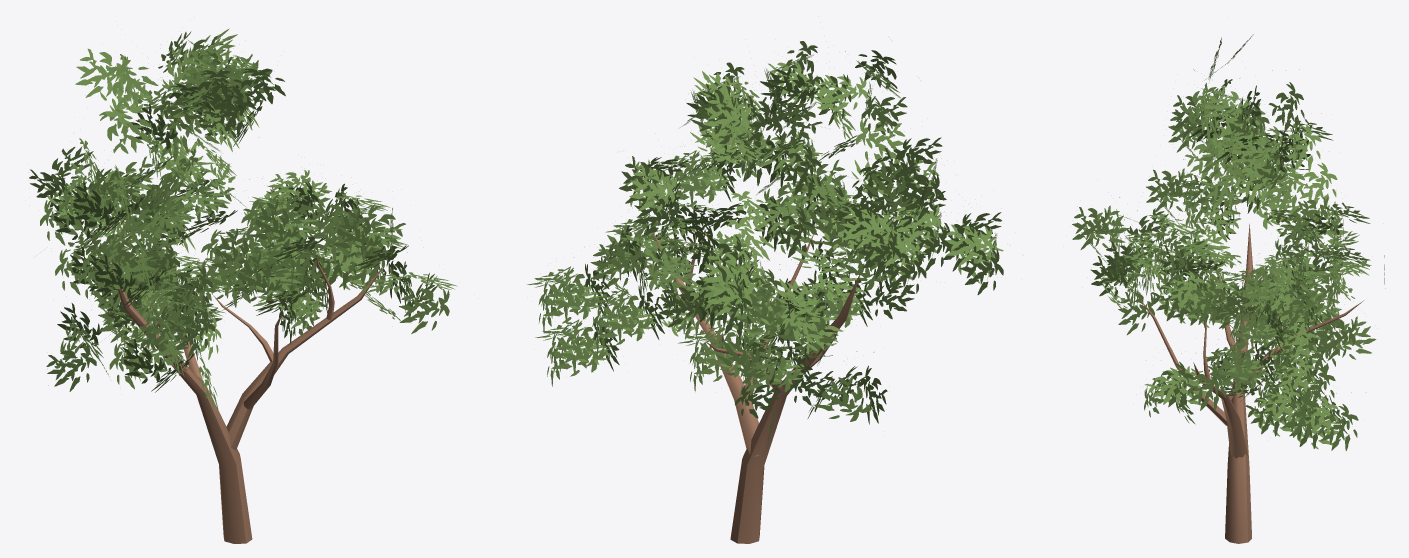
File: tree3-transformed.glb
The picture shows the model from 3 angles, left to right: view 1: azimuth 30°, elevation 25°; view 2: azimuth 150°, elevation 25°; view 3: azimuth 270°, elevation 25°; orthographic projection. The views are drawn at different scales.
Parts seen in each view (by area): view 1: Object_2; view 2: Object_2; view 3: Object_2.
Boxes of the visible parts, x1,y1,x2,y2 form: Object_2: (29,28,457,543); Object_2: (527,41,1003,543); Object_2: (1072,34,1385,543).
Size of the model in its own units: 5.89 by 7.27 by 4.79.
1 material, 1 textured.
